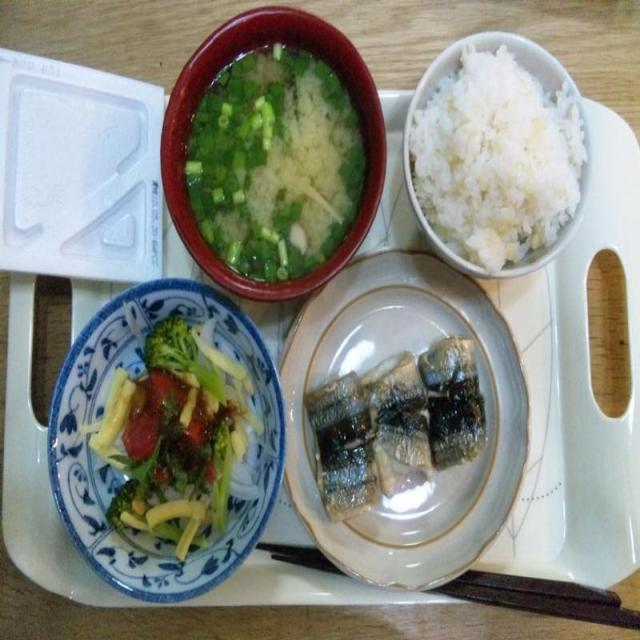Rice: (400, 25, 598, 294)
